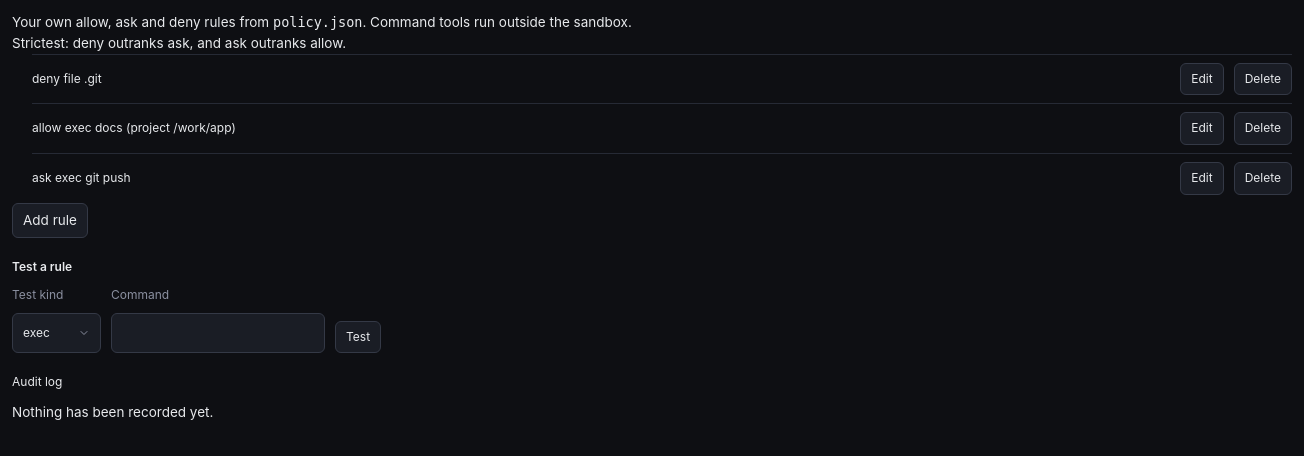
Test: Owner rules in Settings › says a test ran outside a project when only a project rule would match
Type "docs" into the field labelled "Command" at (218, 333), box [111, 313, 325, 353]
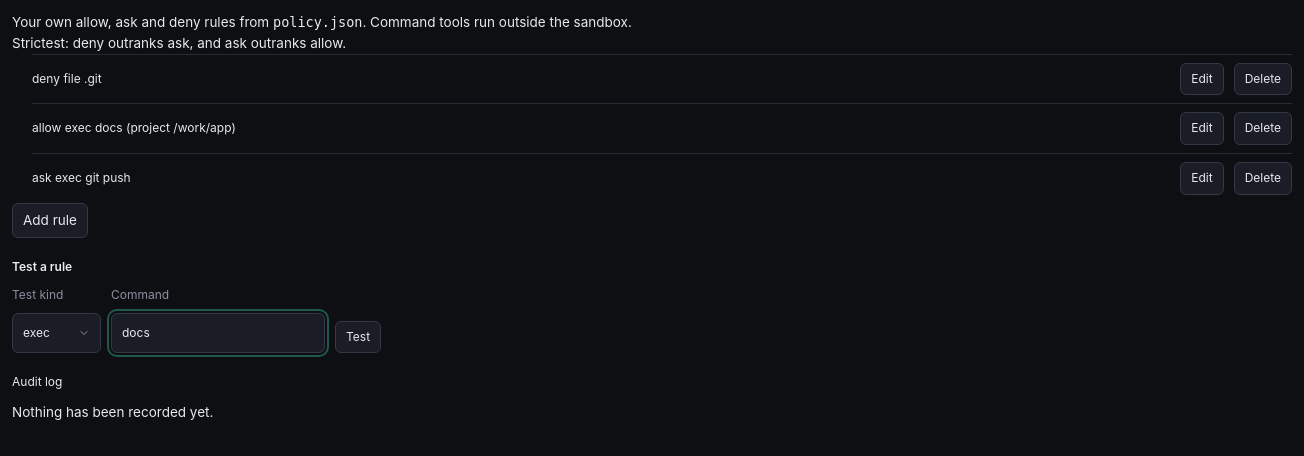
Click the button "Test" at (358, 337), box [335, 321, 381, 353]
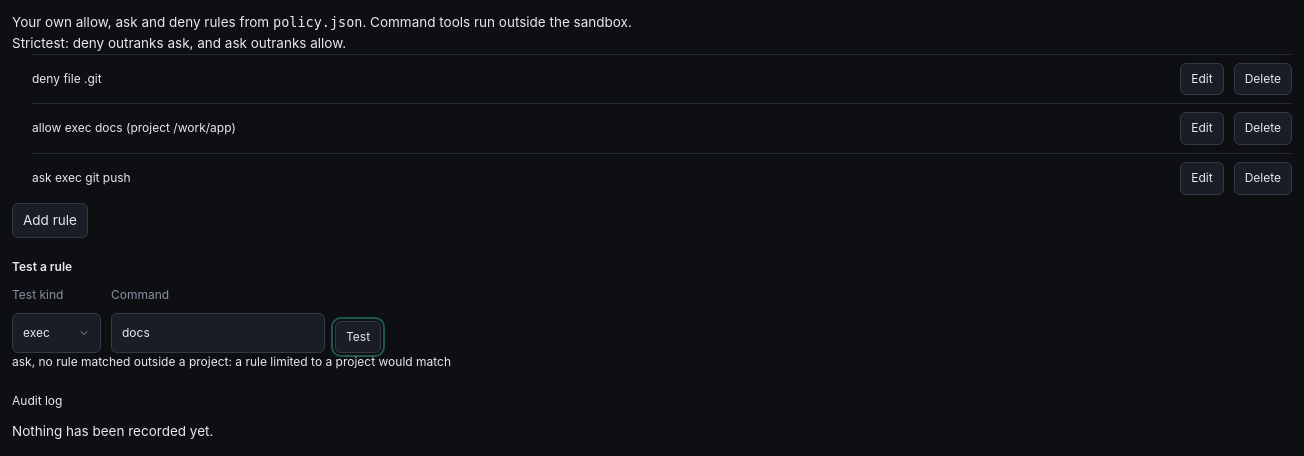
Expected: the message shows "outside a project", [12, 354, 451, 369]
